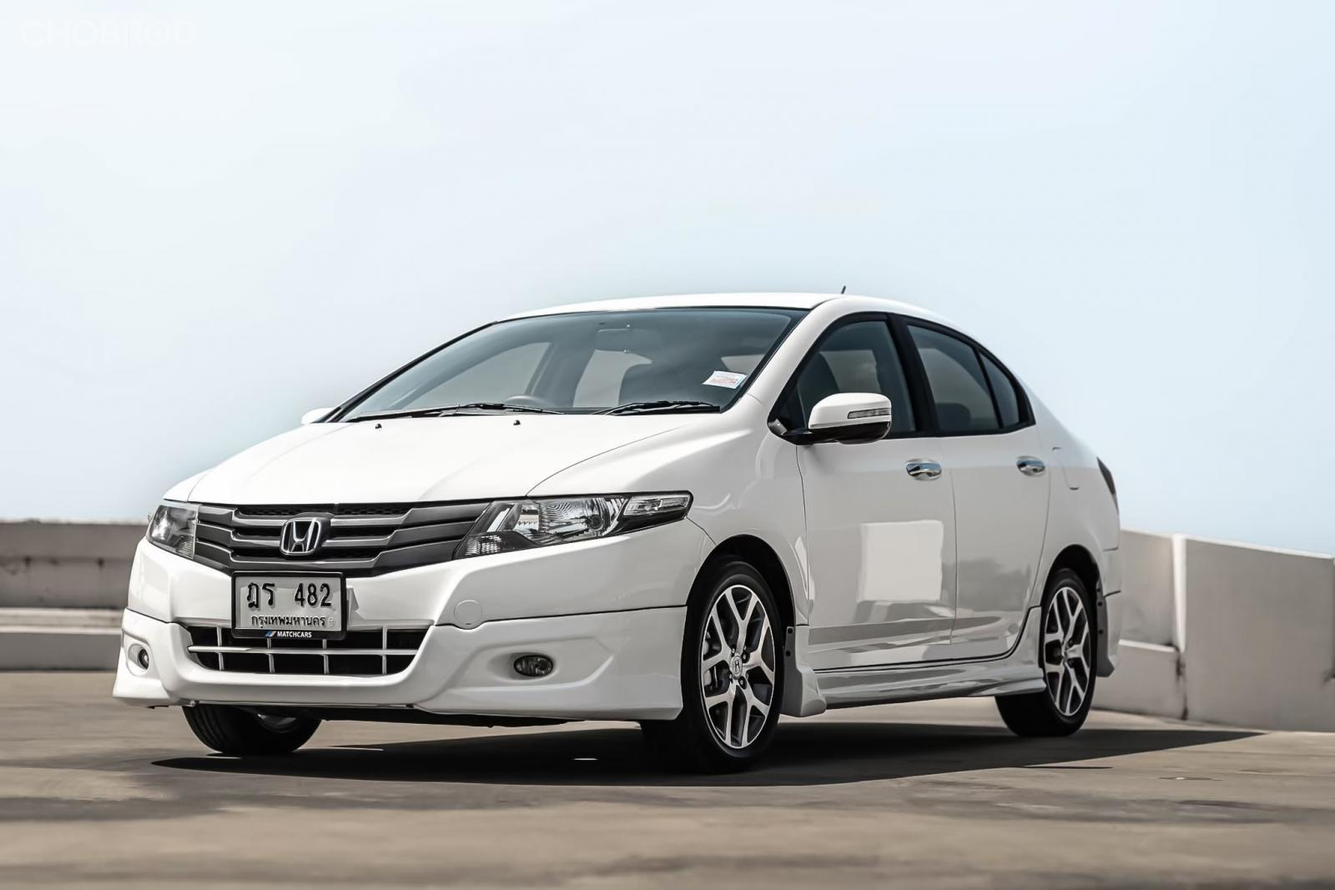license-plate: (227, 561, 352, 646)
